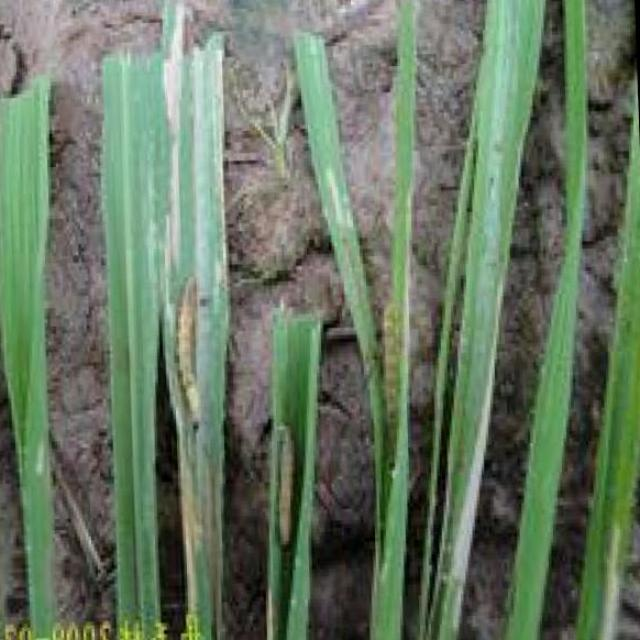leaf folder: (252, 417, 302, 558), (373, 273, 409, 453), (176, 276, 201, 426)
